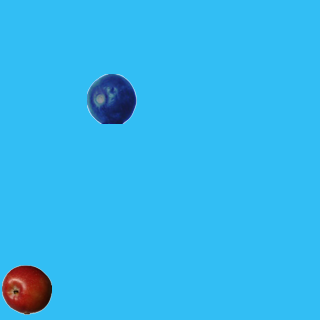Apple Braeburn: (1, 264, 51, 314)
Huckleberry: (86, 73, 136, 123)
